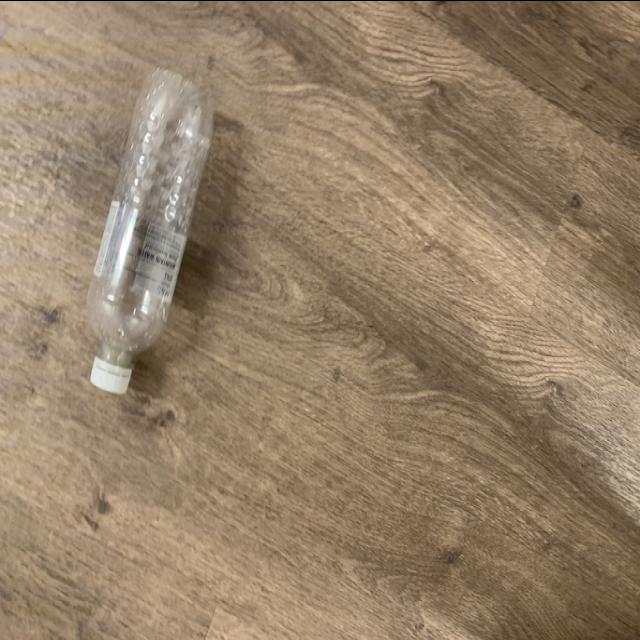litter: (83, 64, 221, 400)
